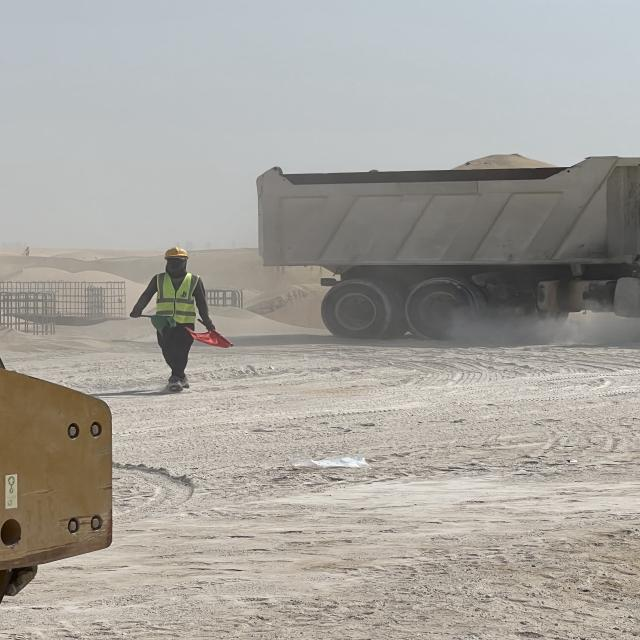dump_truck: (254, 148, 637, 346)
